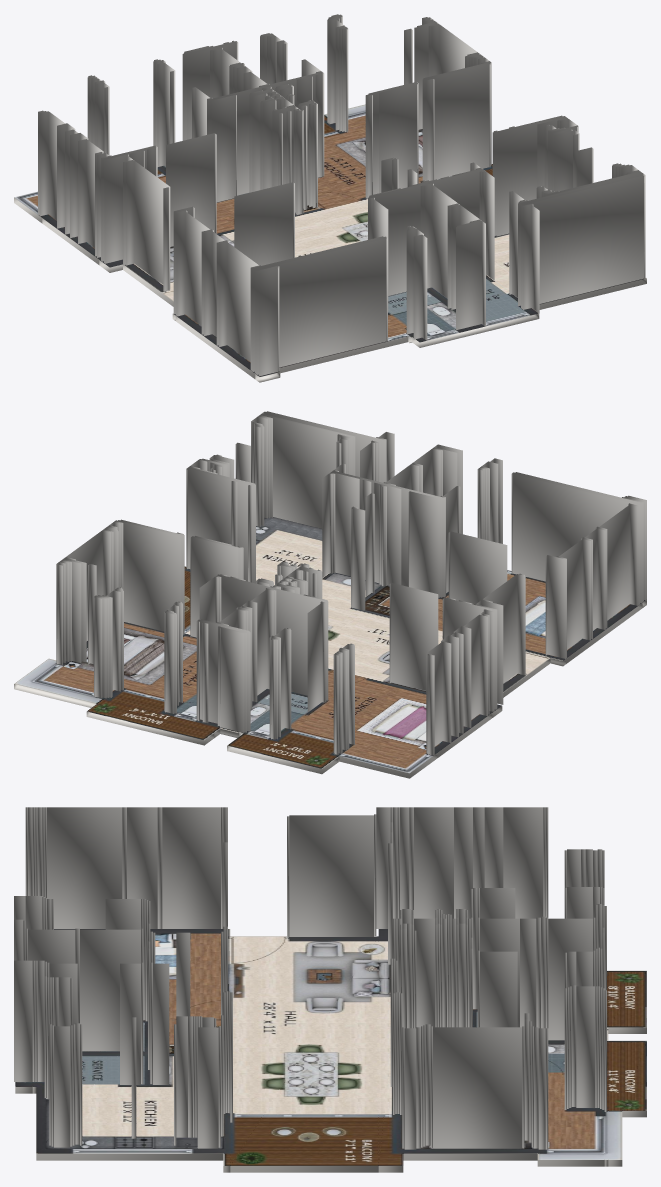
Rendered from SPR_unit_D_conceptual.glb.
The picture shows the model from 3 angles, top to bottom: view 1: azimuth 30°, elevation 25°; view 2: azimuth 150°, elevation 25°; view 3: azimuth 270°, elevation 25°; orthographic projection. The views are drawn at different scales.
Visible parts, largest first — view 1: UnitD_walls_from_plan, UnitD_floor_brochure_plan, UnitD_slab; view 2: UnitD_walls_from_plan, UnitD_floor_brochure_plan, UnitD_slab; view 3: UnitD_walls_from_plan, UnitD_floor_brochure_plan, UnitD_slab.
Part boxes in pixels (x1,y1,x2,y2): UnitD_walls_from_plan: (38, 14, 645, 376); UnitD_floor_brochure_plan: (14, 104, 646, 376); UnitD_slab: (14, 197, 646, 382); UnitD_walls_from_plan: (56, 411, 646, 755); UnitD_floor_brochure_plan: (14, 517, 646, 773); UnitD_slab: (14, 600, 646, 778); UnitD_walls_from_plan: (14, 807, 606, 1149); UnitD_floor_brochure_plan: (15, 929, 646, 1165); UnitD_slab: (15, 1027, 646, 1172).
Size of the model in its own units: 12.12 by 3.05 by 13.67.
3 materials, 1 textured.
